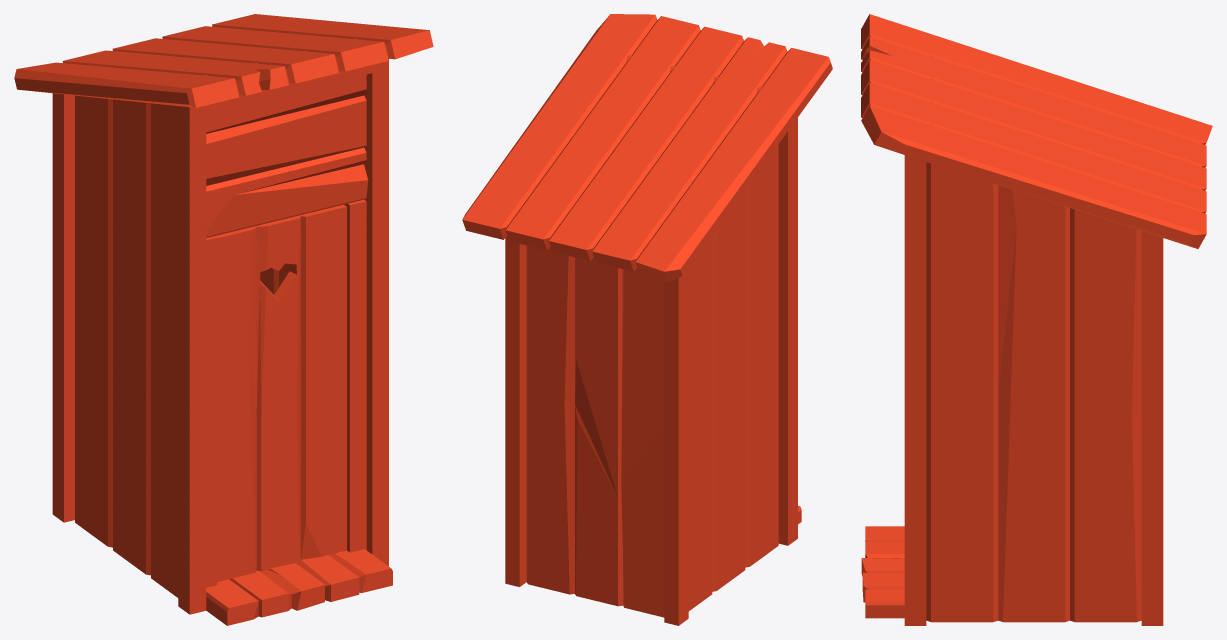
The model's file is SM_Outhouse_Small_Summer_Camp.fbx.
3 views of the same model, side by side, from view 1: azimuth 30°, elevation 25°; view 2: azimuth 150°, elevation 25°; view 3: azimuth 270°, elevation 25° (orthographic). The views are drawn at different scales.
Parts seen in each view (by area): view 1: outhouse-small-base-summer-camp, outhouse-small-door-summer-camp; view 2: outhouse-small-base-summer-camp; view 3: outhouse-small-base-summer-camp.
Part boxes in pixels (x1,y1,x2,y2): outhouse-small-base-summer-camp: (14, 14, 433, 625); outhouse-small-door-summer-camp: (215, 204, 346, 581); outhouse-small-base-summer-camp: (462, 14, 832, 625); outhouse-small-base-summer-camp: (861, 14, 1212, 625).
Bounding box in the file's own units: 1.52 × 3.13 × 1.95.
